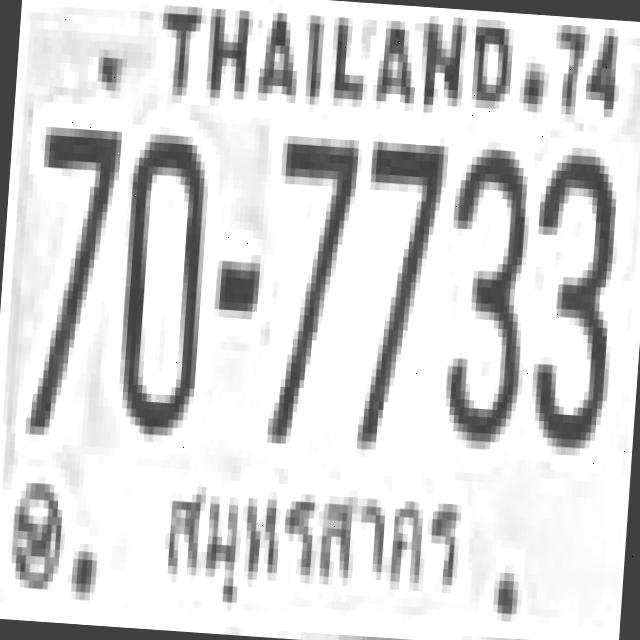0: (110, 124, 208, 428)
3: (518, 145, 620, 441), (438, 139, 529, 435)
7: (21, 117, 118, 430), (348, 132, 444, 445), (262, 126, 354, 438), (25, 113, 118, 370)
SamutSakhon: (148, 466, 476, 626)
